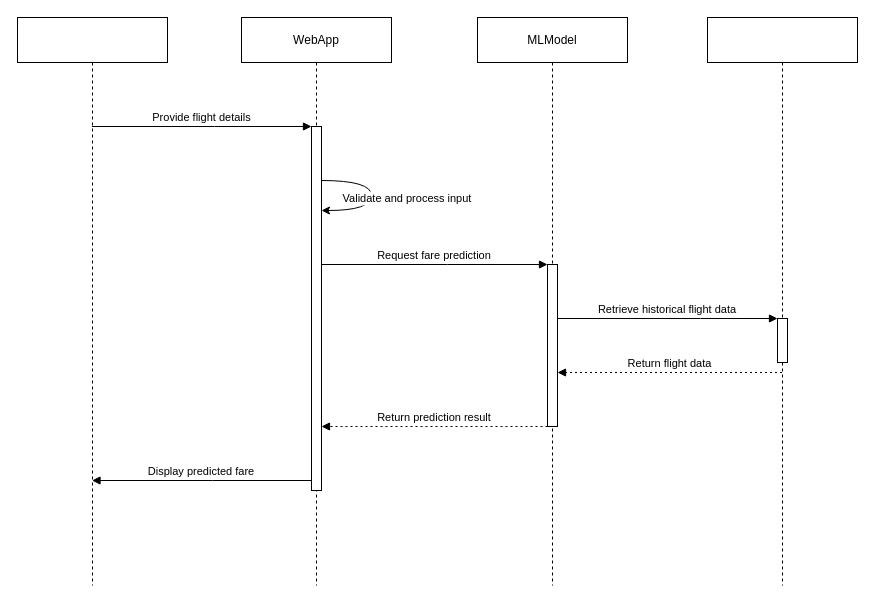
Some shapes in this 875 by 603 pixel diagram are drawn without their labels. Each missing label, with the box of its shape:
Dataset: (706, 16, 858, 586)
User: (16, 16, 168, 586)
